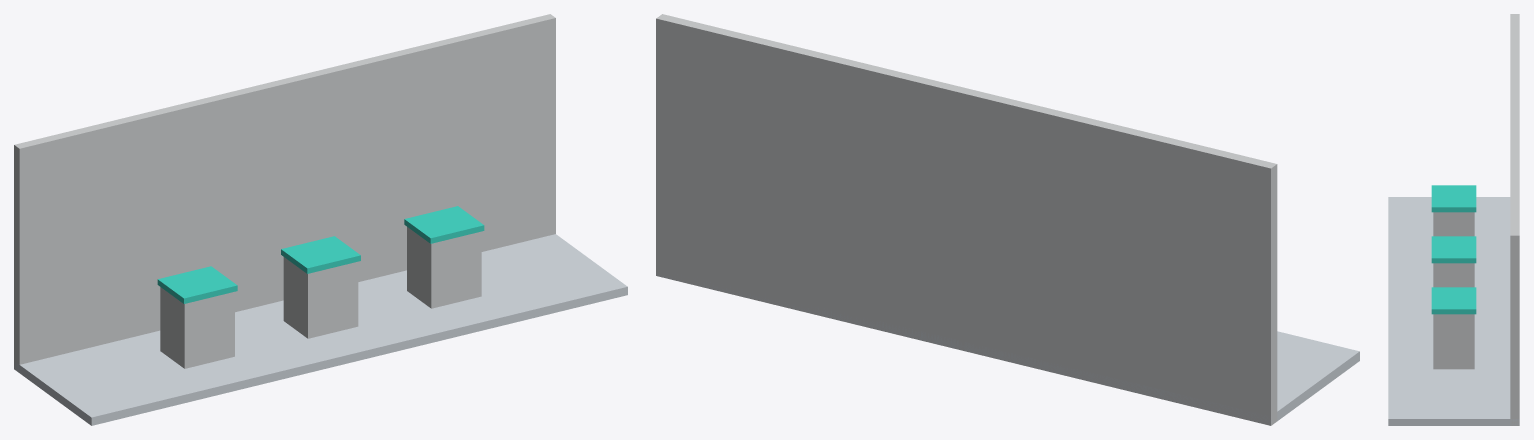
3 renders of one model, left to right at view 1: azimuth 30°, elevation 25°; view 2: azimuth 150°, elevation 25°; view 3: azimuth 270°, elevation 25°, orthographic. The views are drawn at different scales.
Parts seen in each view (by area): view 1: Exhibition Booth Concept; view 2: Exhibition Booth Concept; view 3: Exhibition Booth Concept.
Part boxes in pixels (x1,y1,x2,y2): Exhibition Booth Concept: (14,14,627,425); Exhibition Booth Concept: (656,14,1359,425); Exhibition Booth Concept: (1388,14,1519,425).
Bounding box in the file's own units: 8 × 3.2 × 2.
